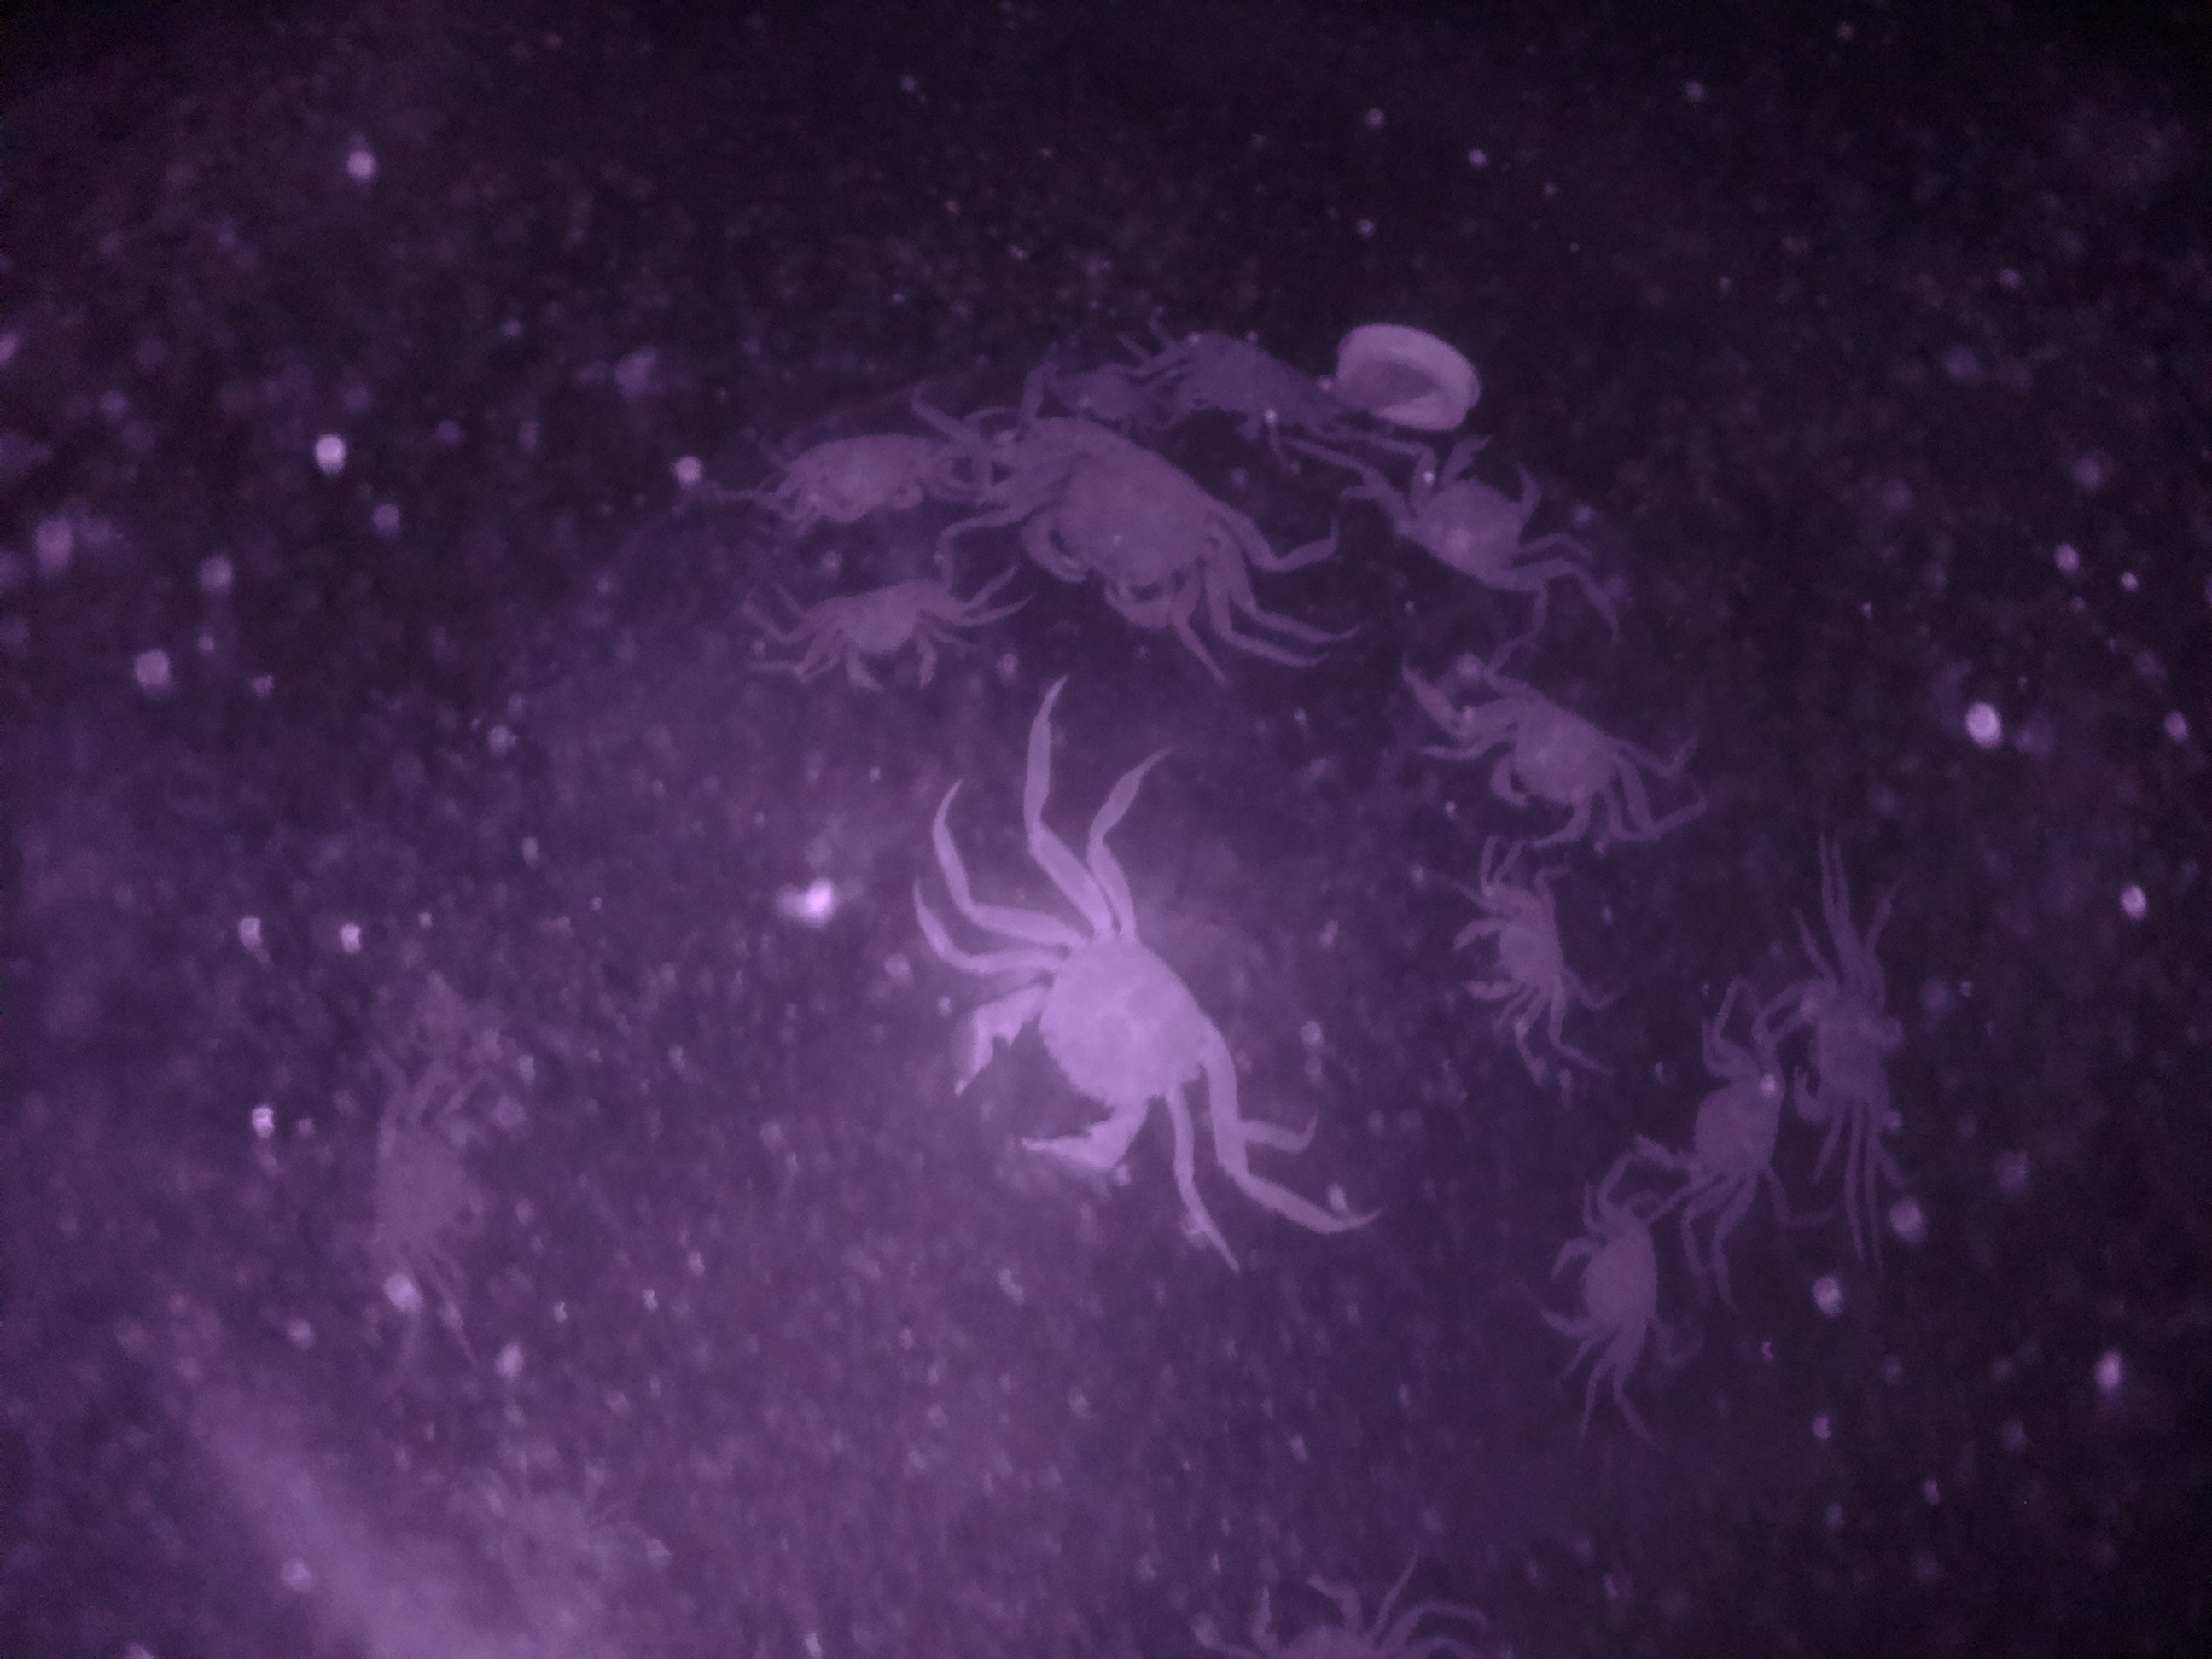Crab: (941, 903, 1242, 1183), (993, 406, 1280, 659), (1778, 958, 1933, 1152), (1458, 692, 1635, 856), (1378, 427, 1554, 589), (1531, 1201, 1670, 1370), (796, 570, 968, 697), (1446, 896, 1581, 1033)
